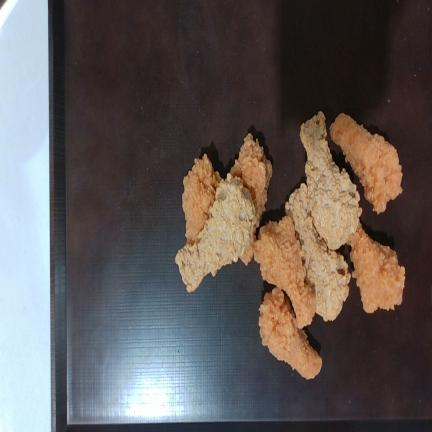chicken: (176, 175, 255, 292), (286, 184, 350, 321), (300, 112, 361, 248), (330, 113, 402, 213), (254, 215, 316, 328), (259, 287, 322, 379), (349, 223, 405, 313), (182, 154, 221, 244)
